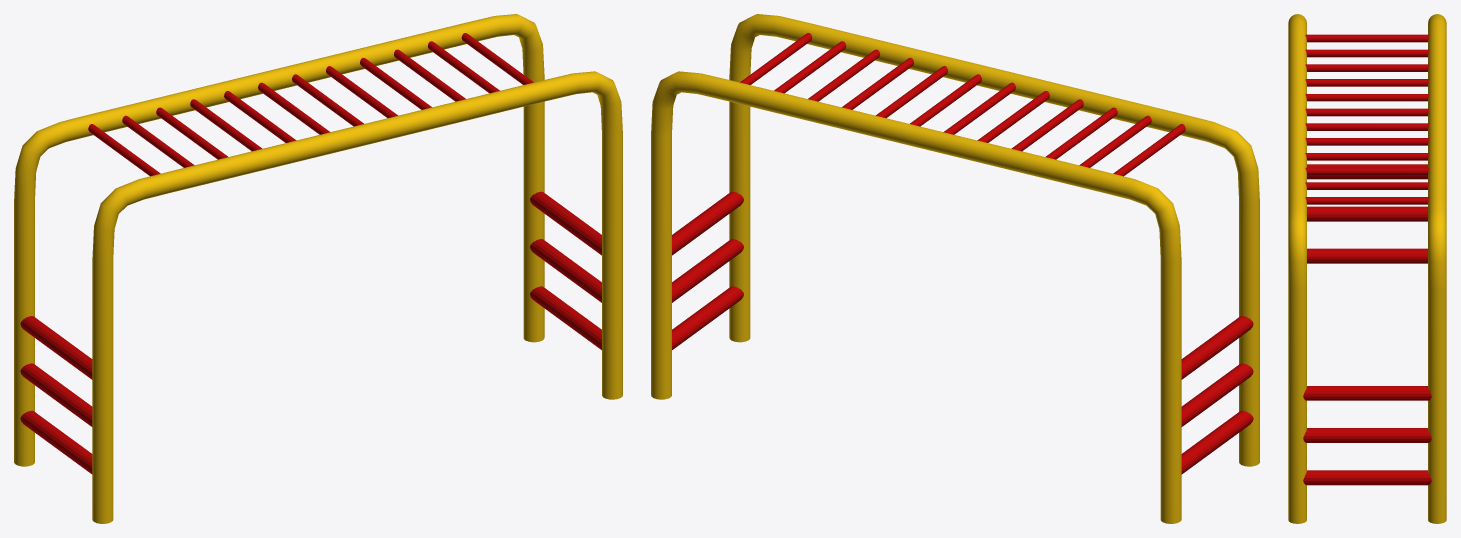
File: SomethingToClimb.fbx
The picture shows the model from 3 angles, left to right: view 1: azimuth 30°, elevation 25°; view 2: azimuth 150°, elevation 25°; view 3: azimuth 270°, elevation 25°; orthographic projection. The views are drawn at different scales.
Visible parts, largest first — view 1: Cylinder.001, Cylinder.009, Cylinder.002; view 2: Cylinder.001, Cylinder.009, Cylinder.002; view 3: Cylinder.001, Cylinder.009, Cylinder.002.
Part boxes in pixels (box(x1,y1,x2,y2)): Cylinder.001: box(14, 14, 622, 523); Cylinder.009: box(88, 33, 533, 176); Cylinder.002: box(20, 191, 601, 474); Cylinder.001: box(651, 14, 1259, 523); Cylinder.009: box(740, 33, 1185, 176); Cylinder.002: box(672, 191, 1253, 474); Cylinder.001: box(1288, 14, 1446, 523); Cylinder.009: box(1305, 34, 1429, 204); Cylinder.002: box(1303, 164, 1431, 485).
Bounding box in the file's own units: 233 × 140 × 68.08.
